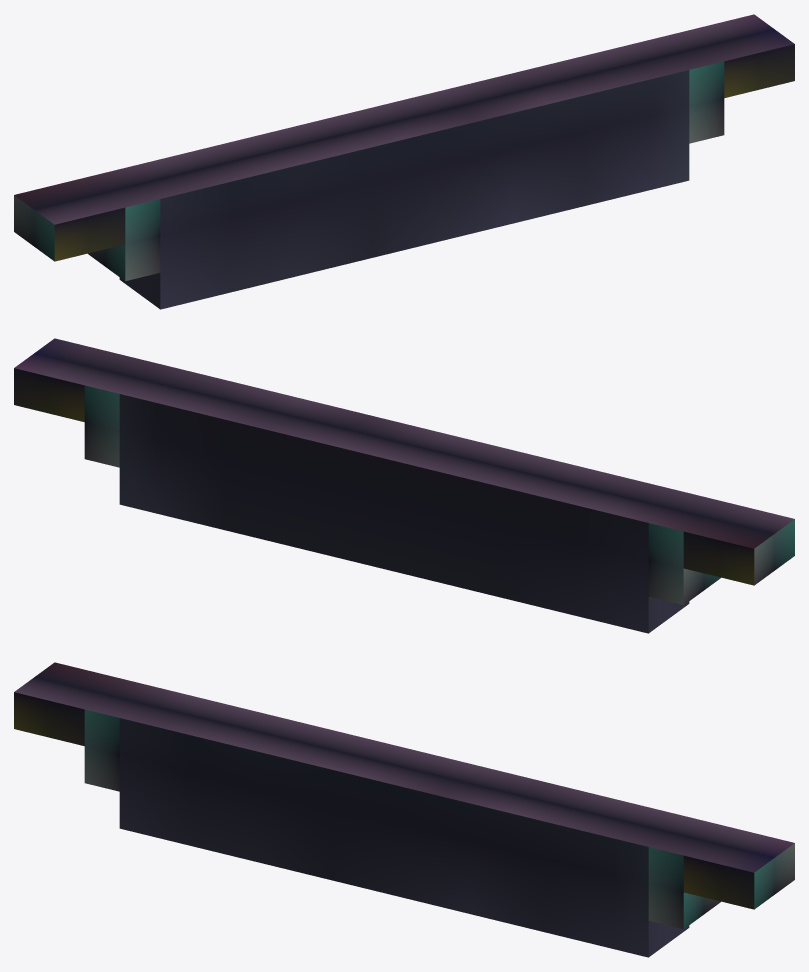
Rendered from Electronics_Stick_F_00.fbx.
3 renders of one model, top to bottom at view 1: azimuth 30°, elevation 25°; view 2: azimuth 150°, elevation 25°; view 3: azimuth 330°, elevation 25°, orthographic.
Visible parts, largest first — view 1: Electronics_Stick_F_00; view 2: Electronics_Stick_F_00; view 3: Electronics_Stick_F_00.
Boxes of the visible parts, box(x1,y1,x2,y2) form: Electronics_Stick_F_00: box(14, 14, 794, 309); Electronics_Stick_F_00: box(14, 338, 794, 633); Electronics_Stick_F_00: box(14, 662, 794, 957).
Bounding box in the file's own units: 105 × 15 × 10.
